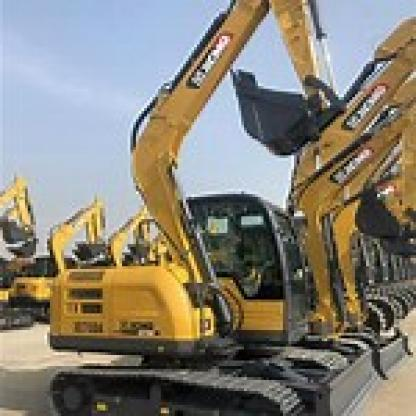excavator: (17, 6, 405, 410)
